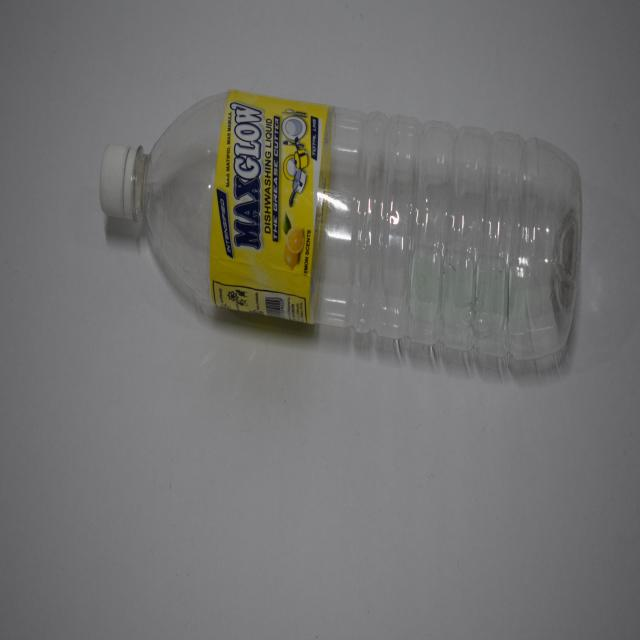plastic: (95, 83, 584, 384)
